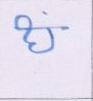anusvara: (42, 12, 47, 15)
